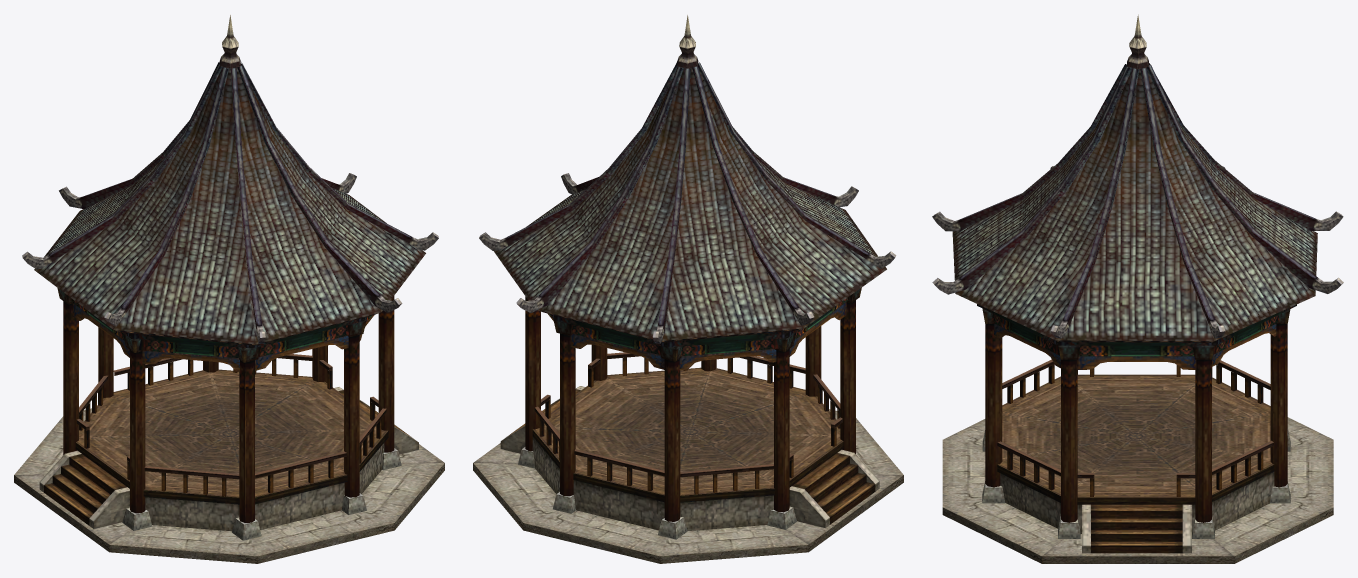
Rendered from nsm-001-house3.glb.
3 renders of one model, left to right at view 1: azimuth 30°, elevation 25°; view 2: azimuth 150°, elevation 25°; view 3: azimuth 270°, elevation 25°, orthographic.
Visible parts, largest first — view 1: b1-001-house3; view 2: b1-001-house3; view 3: b1-001-house3.
Part boxes in pixels (x1,y1,x2,y2): b1-001-house3: [14, 15, 444, 563]; b1-001-house3: [473, 15, 903, 563]; b1-001-house3: [932, 14, 1343, 563].
Size of the model in its own units: 8.17 by 10.74 by 8.58.
1 material, 1 textured.
